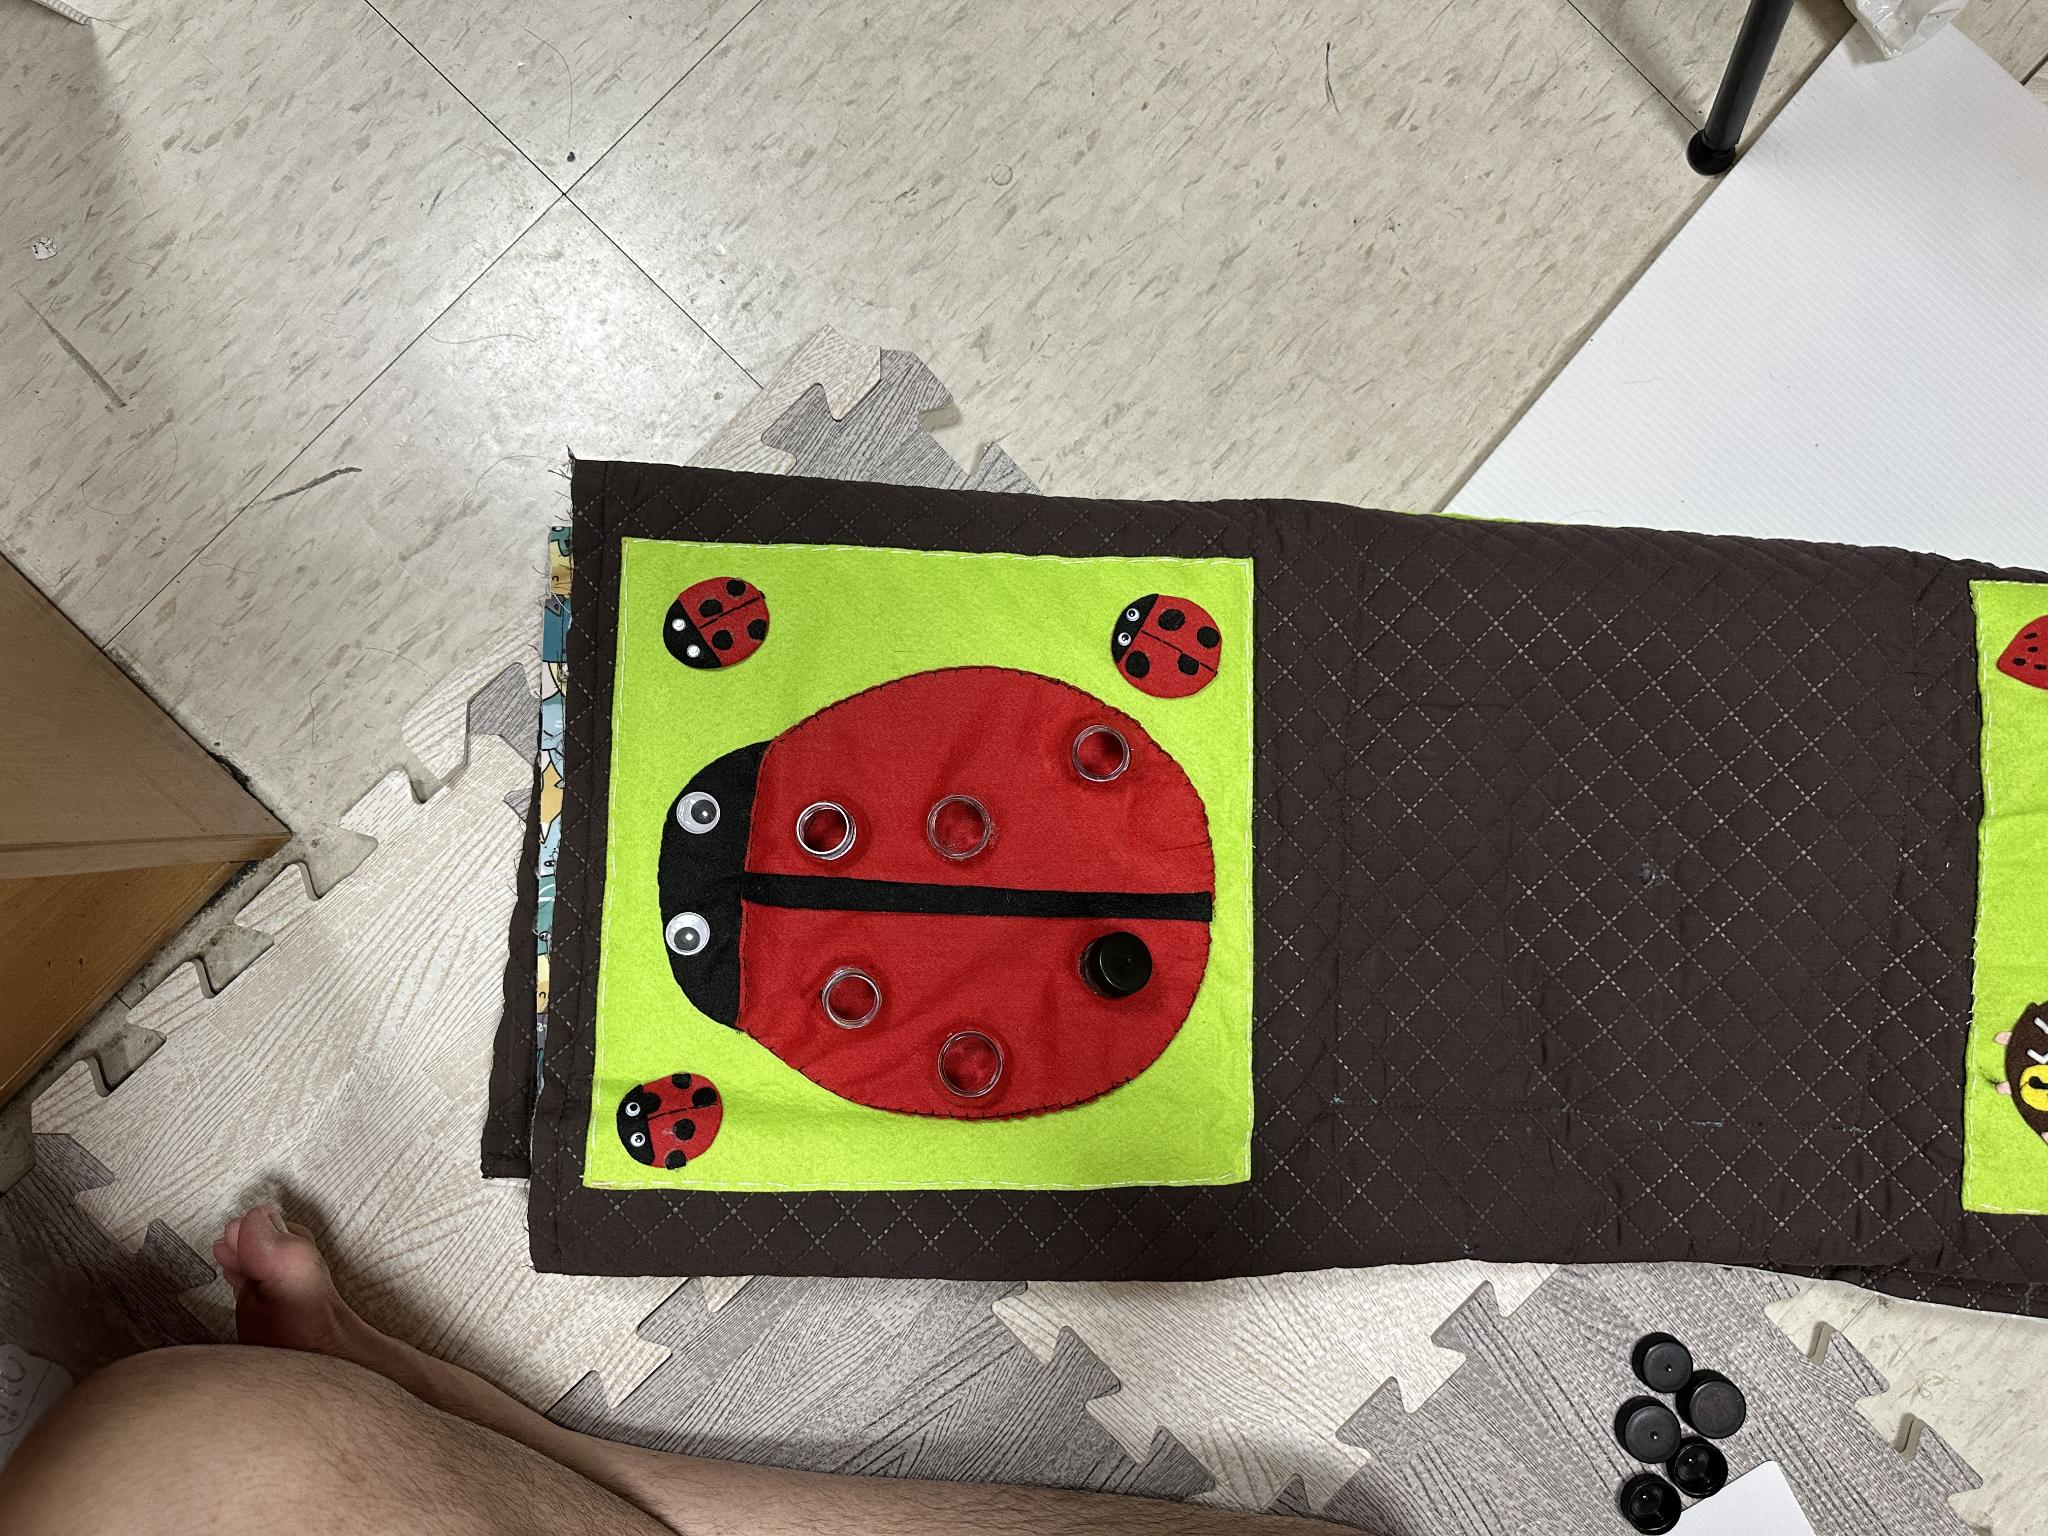cap_ng: (1063, 923, 1166, 1016)
